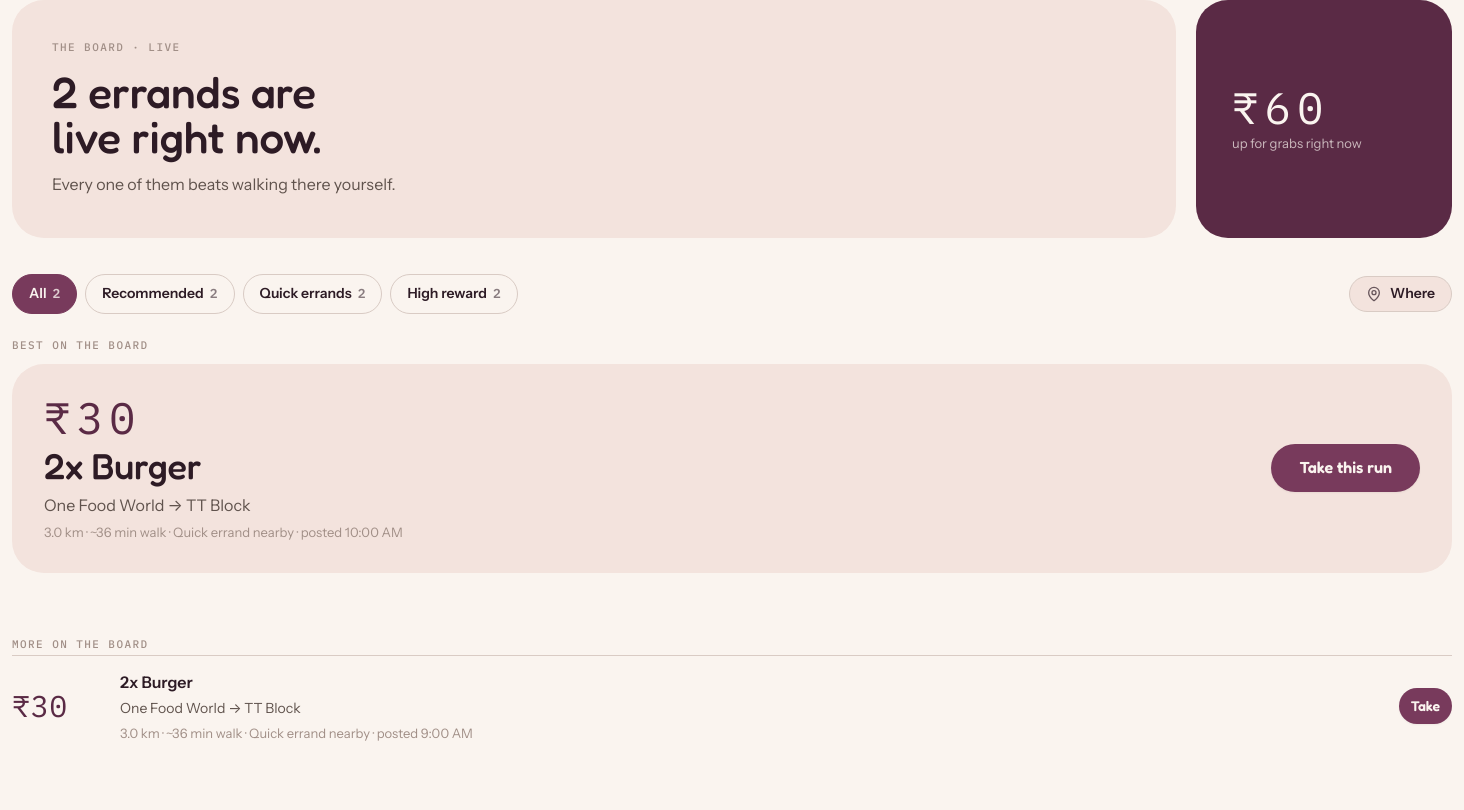
Test: Home — 3F Recommended › breaks a tie between equal reward density using reputation, without penalizing an unrated requester
The width and height of the screenshot is (1464, 810).
What coordinates should you click on to do the following:
click the button "Recommended2"
I would click on:
 (160, 294)
Its box is [85,274,235,314].
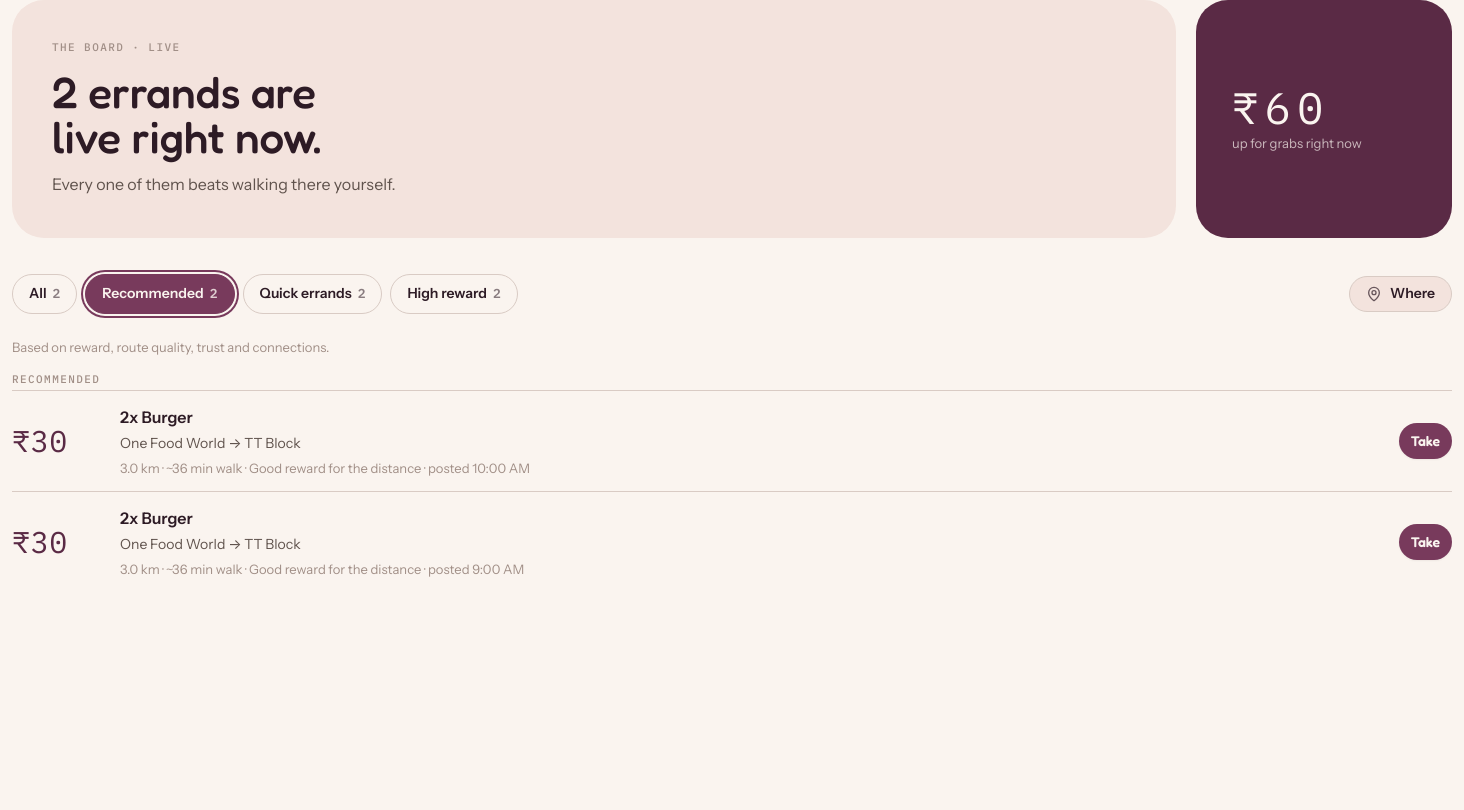
Check: the text "One Food World → TT Block" is shown 2 times, box [120,434,301,452]; [120,535,301,553]
